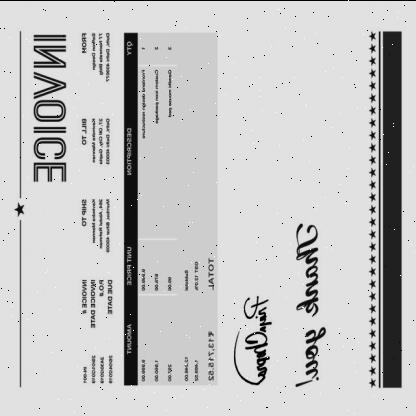Paragraph: (292, 217, 328, 389), (30, 30, 68, 184), (181, 251, 217, 383), (78, 273, 116, 387), (77, 192, 113, 255), (79, 27, 113, 84), (78, 113, 112, 168)
Table: (124, 32, 176, 386)
